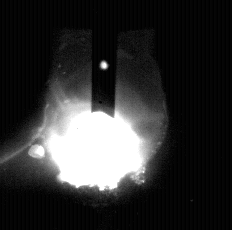arame: (93, 0, 117, 118)
poca: (42, 0, 169, 230)
